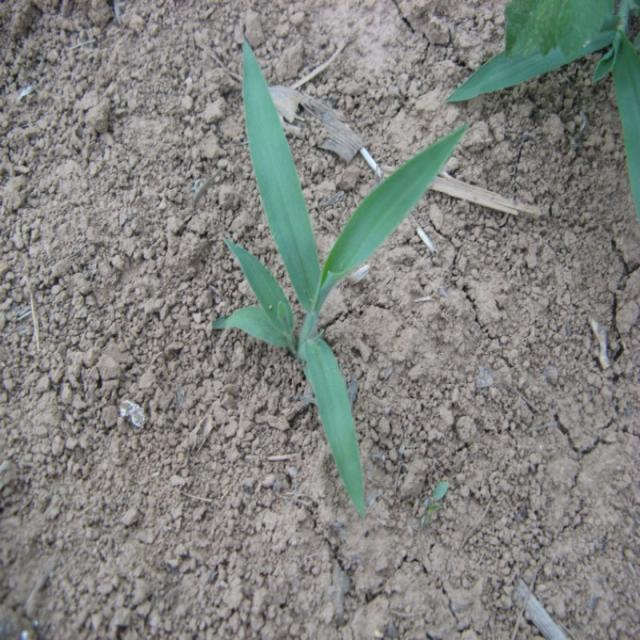bg: (217, 28, 461, 518)
